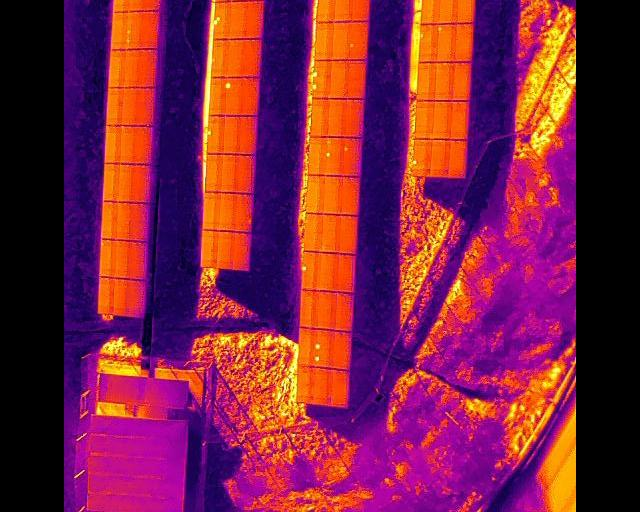Cell: (348, 20, 368, 59), (438, 23, 457, 61), (344, 136, 362, 176), (413, 138, 432, 175), (420, 23, 437, 61), (226, 76, 242, 115), (302, 250, 318, 289), (100, 238, 116, 276), (213, 38, 228, 77), (209, 115, 224, 153), (424, 0, 439, 23)
Cell-Multi: (325, 135, 344, 175), (312, 59, 331, 97), (314, 328, 332, 368), (215, 2, 231, 39), (127, 11, 141, 49)
No-Anomaly: (236, 115, 257, 153), (431, 138, 451, 176), (451, 99, 470, 139), (313, 366, 332, 405), (333, 291, 352, 330), (133, 125, 152, 163), (335, 251, 353, 291), (132, 163, 150, 202), (311, 97, 329, 136), (324, 175, 342, 214), (329, 97, 347, 136), (331, 330, 349, 369), (435, 61, 453, 99), (454, 61, 472, 99), (106, 86, 124, 124), (127, 279, 145, 317), (137, 87, 155, 125), (138, 49, 156, 87), (338, 214, 356, 252), (218, 229, 235, 269), (237, 153, 254, 193), (332, 368, 349, 408), (434, 99, 451, 138), (131, 202, 148, 241), (242, 76, 259, 115), (316, 20, 333, 59), (331, 59, 348, 98), (331, 20, 348, 59), (347, 98, 364, 137), (349, 59, 366, 98), (418, 61, 435, 99), (451, 139, 468, 177), (457, 23, 474, 61), (109, 48, 126, 86), (141, 10, 158, 48), (228, 38, 245, 76), (305, 213, 322, 251), (417, 99, 433, 138), (115, 239, 131, 278), (205, 190, 221, 229), (234, 232, 250, 271), (309, 136, 325, 175), (342, 176, 358, 215), (103, 162, 119, 200), (105, 124, 121, 162), (130, 241, 146, 279), (245, 38, 261, 76), (247, 0, 263, 38), (308, 174, 324, 212), (317, 290, 333, 328), (318, 252, 334, 290), (221, 191, 236, 231), (236, 191, 251, 231), (98, 276, 114, 313), (102, 201, 118, 238), (111, 11, 127, 48), (300, 289, 316, 326), (222, 153, 237, 192), (298, 364, 313, 403), (323, 213, 338, 252), (202, 229, 217, 267), (231, 0, 246, 38), (300, 325, 314, 365), (208, 153, 222, 191), (118, 201, 131, 239), (124, 87, 137, 125), (126, 49, 139, 87), (212, 77, 225, 115), (114, 278, 127, 314), (120, 163, 132, 201), (121, 125, 133, 163), (224, 115, 236, 153), (440, 0, 458, 23), (458, 0, 475, 23), (335, 0, 353, 20), (353, 0, 370, 21), (318, 0, 335, 21), (113, 0, 129, 11), (144, 0, 161, 10), (129, 0, 144, 11)
